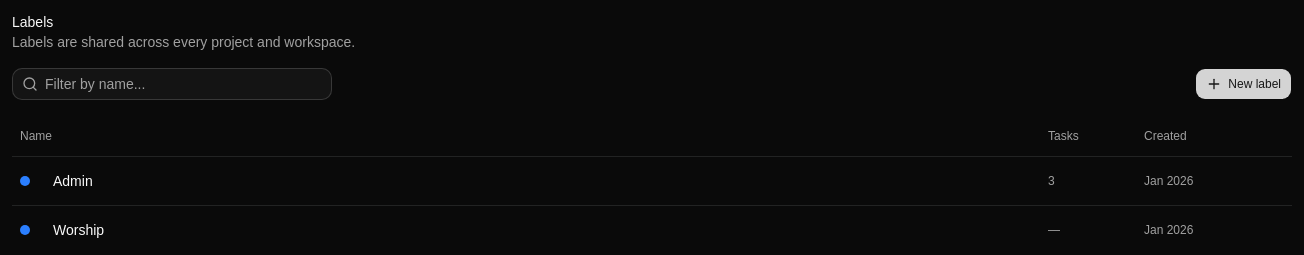
Test: label settings › says so when the filter matches nothing
Type "zzz" into the field named "Filter labels by name" at (172, 84), box x1=12 y1=68 x2=332 y2=100
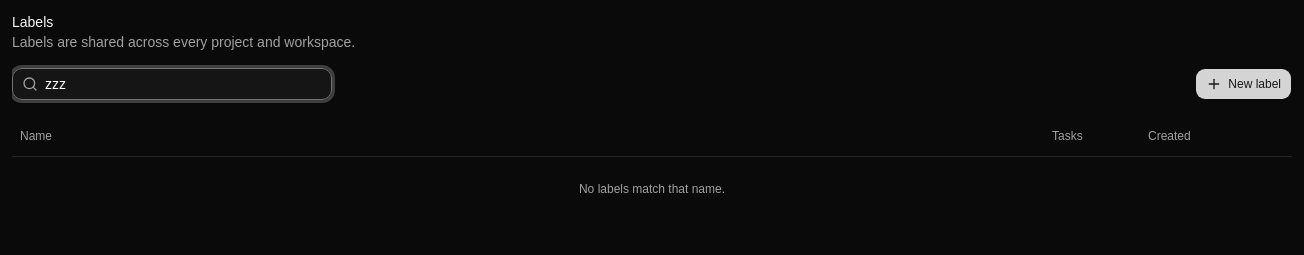
Expected: the text "No labels match that name." is shown, x1=12 y1=156 x2=1292 y2=220
